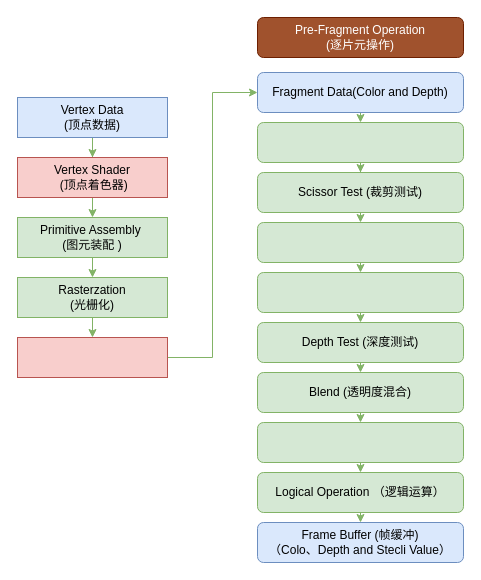
Image size: 481x580. Some labels were removed from this diagram. The box of each missing label's shape, as (x1, y1, x2, y2) in pixels:
Alpha Test (透明度测试): (256, 222, 464, 262)
Dithering: (256, 422, 464, 462)
Fragment Shader (片元着色器: (16, 336, 168, 378)
Pixel Ownership Test: (256, 122, 464, 162)
Stencli Test 模板测试): (256, 272, 464, 312)
